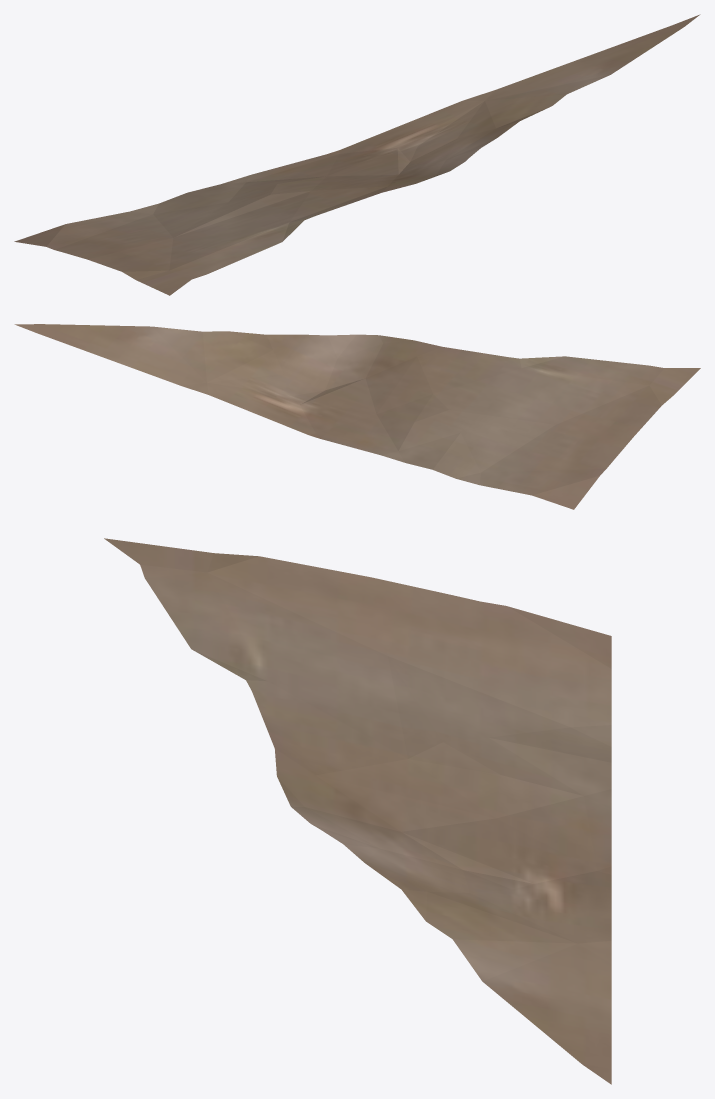
3 views of the same model, one above another, from view 1: azimuth 30°, elevation 25°; view 2: azimuth 150°, elevation 25°; view 3: azimuth 270°, elevation 25° (orthographic). The views are drawn at different scales.
Bounding box in the file's own units: 0.5609 × 0.0468 × 0.2203.
1 material, 1 textured.
